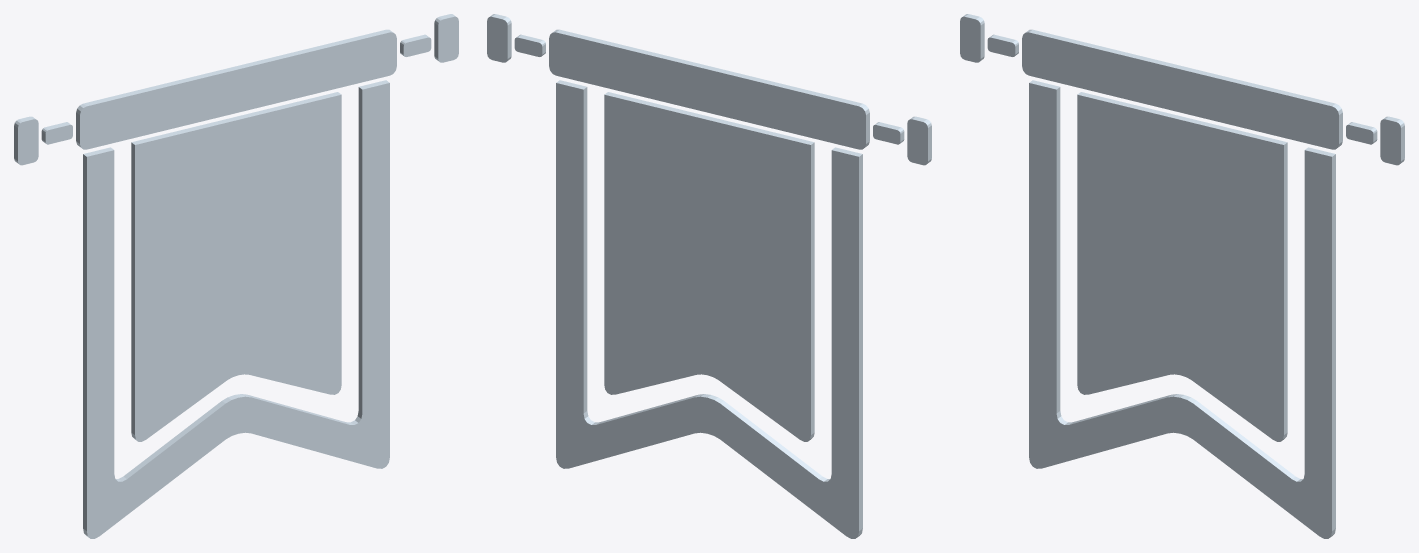
The model's file is Banner_3D_Icon_01.fbx.
3 renders of one model, left to right at view 1: azimuth 30°, elevation 25°; view 2: azimuth 150°, elevation 25°; view 3: azimuth 330°, elevation 25°, orthographic.
Parts seen in each view (by area): view 1: Banner_3D_Icon_01; view 2: Banner_3D_Icon_01; view 3: Banner_3D_Icon_01.
Part boxes in pixels (box(x1,y1,x2,y2)): Banner_3D_Icon_01: box(14, 14, 458, 538); Banner_3D_Icon_01: box(487, 14, 931, 538); Banner_3D_Icon_01: box(960, 14, 1404, 538).
Size of the model in its own units: 134 by 126 by 2.
